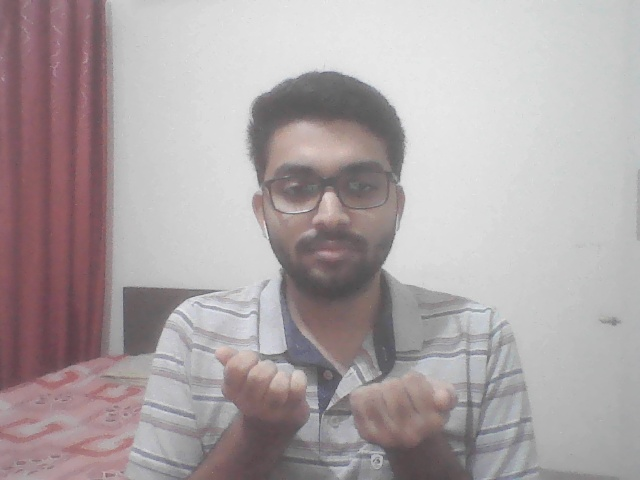want: (195, 335, 490, 465)
